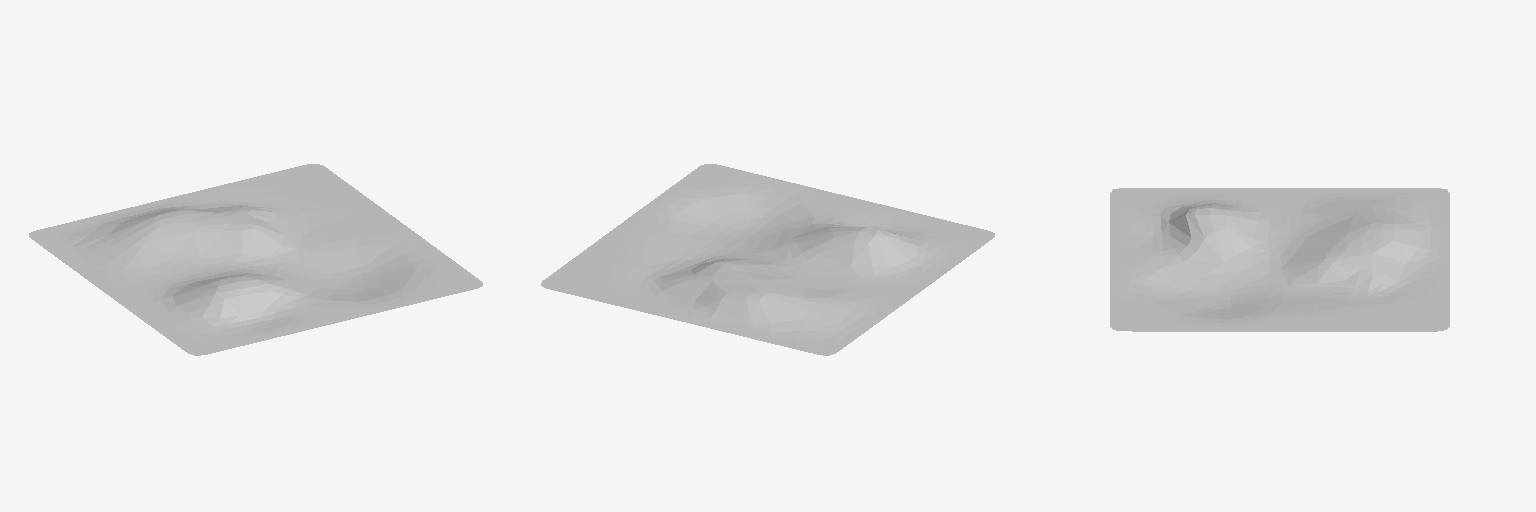
Rendered from Ground10.obj.
3 renders of one model, left to right at view 1: azimuth 30°, elevation 25°; view 2: azimuth 150°, elevation 25°; view 3: azimuth 270°, elevation 25°, orthographic.
Visible parts, largest first — view 1: Plane; view 2: Plane; view 3: Plane.
Boxes of the visible parts, x1=… form: Plane: x1=29, y1=164, x2=482, y2=355; Plane: x1=541, y1=164, x2=994, y2=355; Plane: x1=1110, y1=188, x2=1449, y2=331.
Size of the model in its own units: 400 by 33.95 by 400.